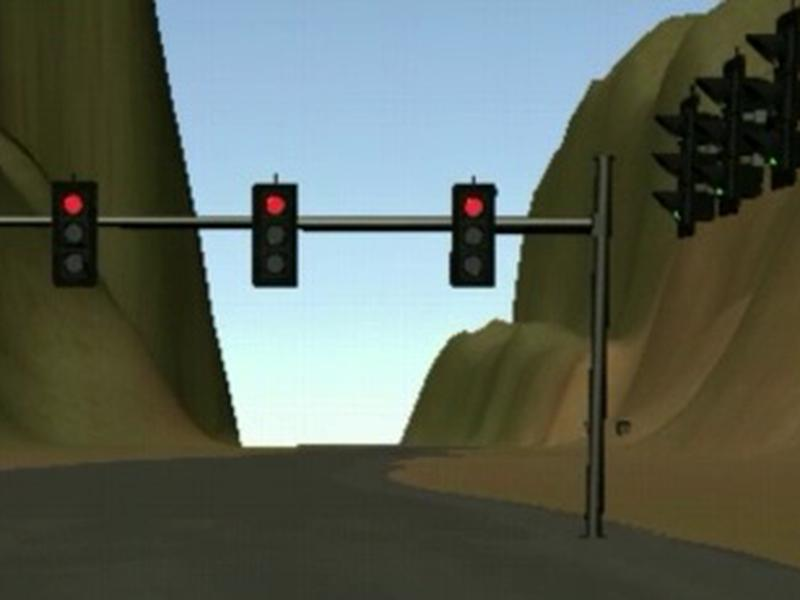Red: (252, 182, 299, 286), (450, 183, 495, 286), (52, 181, 95, 287)
